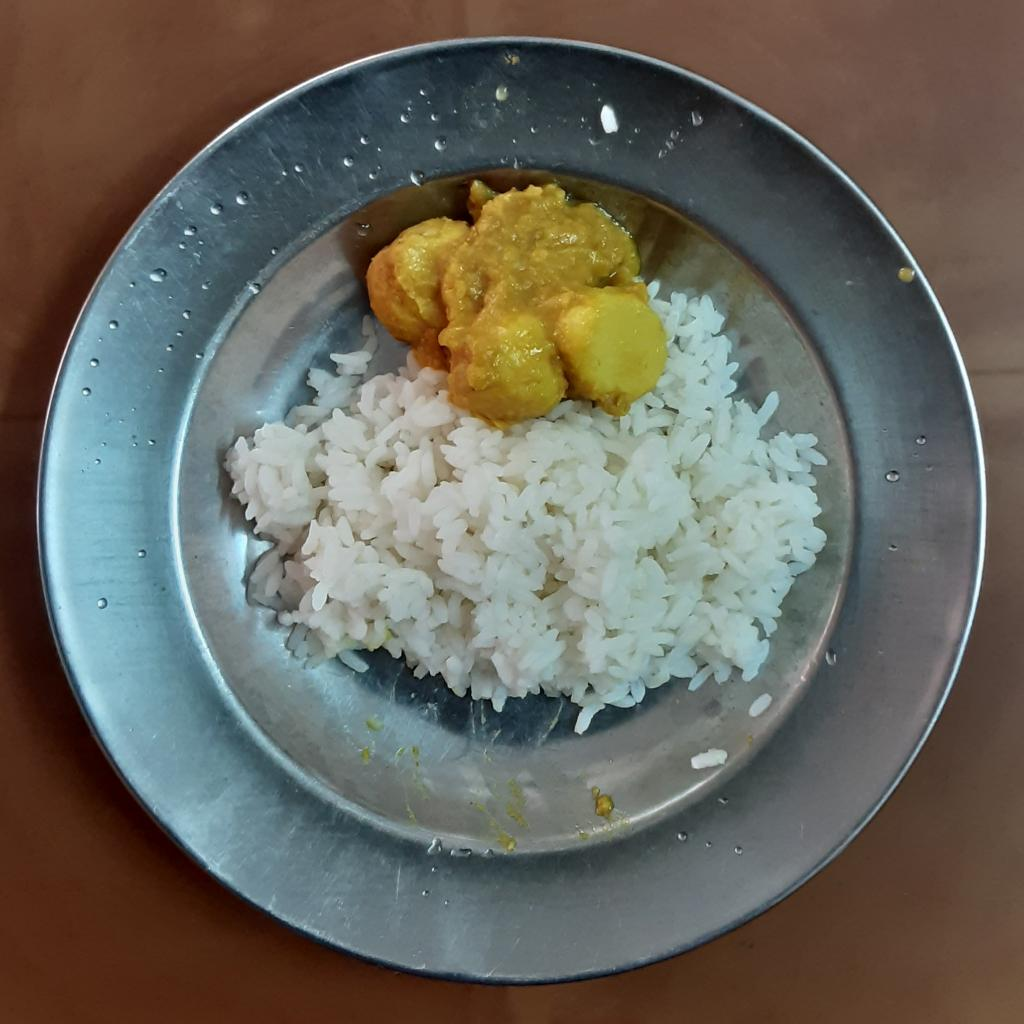kochu: (367, 181, 664, 426)
rice: (224, 285, 831, 735)
